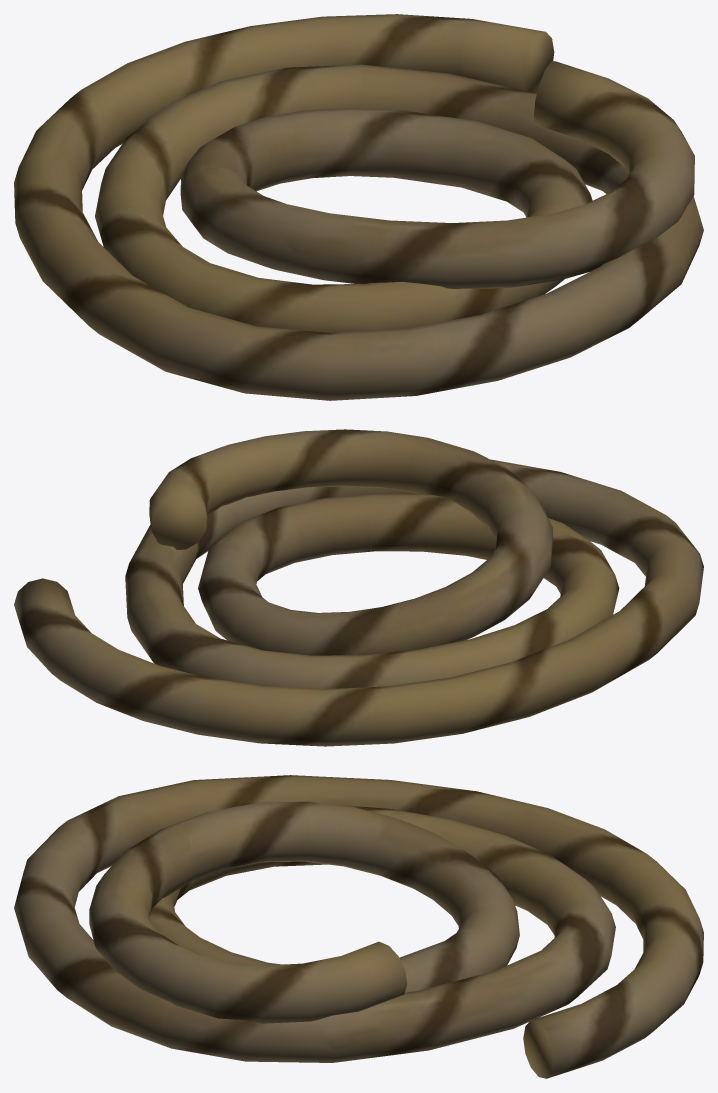
The model's file is Rope_1.glb.
The picture shows the model from 3 angles, top to bottom: view 1: azimuth 30°, elevation 25°; view 2: azimuth 150°, elevation 25°; view 3: azimuth 270°, elevation 25°; orthographic projection. The views are drawn at different scales.
Visible parts, largest first — view 1: Rope_1; view 2: Rope_1; view 3: Rope_1.
Boxes of the visible parts, x1=… form: Rope_1: x1=14, y1=14, x2=703, y2=400; Rope_1: x1=14, y1=429, x2=703, y2=746; Rope_1: x1=14, y1=775, x2=703, y2=1078.
Bounding box in the file's own units: 0.5574 × 0.0978 × 0.6063.
1 material, 1 textured.
